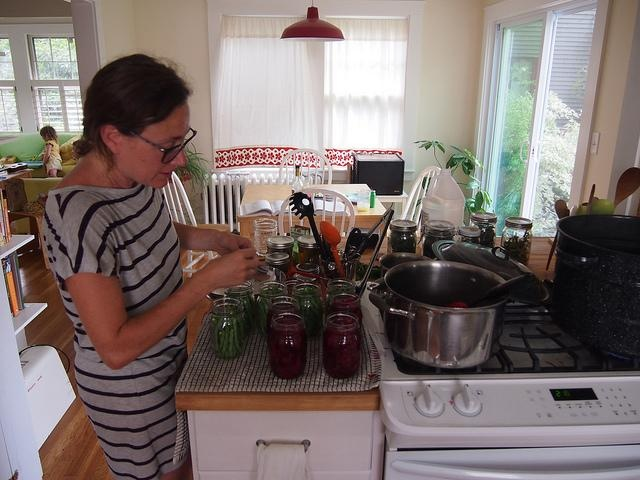person: (42, 53, 275, 480), (37, 125, 68, 178)
